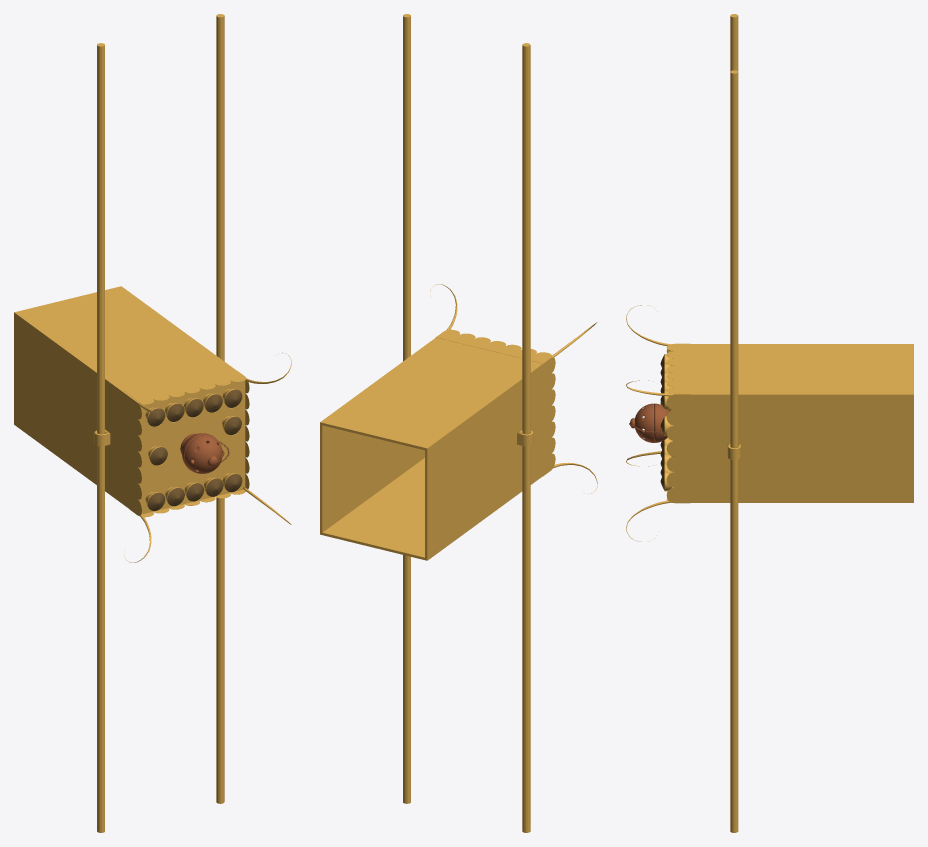
The model's file is tabernacle-incense-altar-detail.staged.glb.
3 renders of one model, left to right at view 1: azimuth 30°, elevation 25°; view 2: azimuth 150°, elevation 25°; view 3: azimuth 270°, elevation 25°, orthographic. The views are drawn at different scales.
Visible parts, largest first — view 1: Crown; view 2: Crown; view 3: Crown.
Part boxes in pixels (<box>): Crown: <box>14,14,291,832</box>; Crown: <box>320,14,597,832</box>; Crown: <box>626,14,913,832</box>.
Size of the model in its own units: 1.49 by 7 by 2.4.
